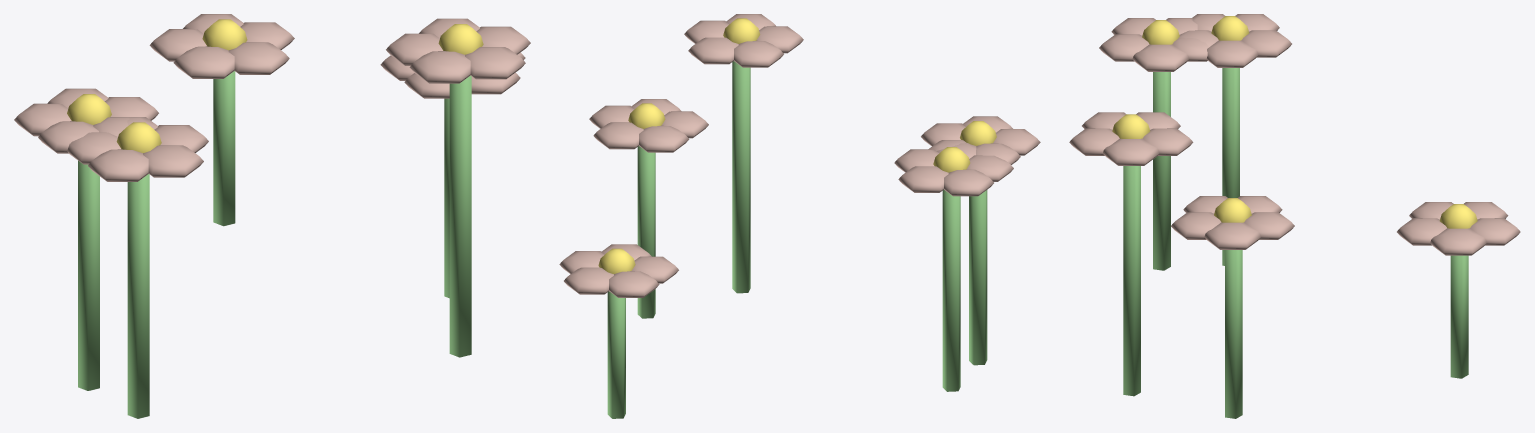
The model's file is env_prehistoric_flower.glb.
The picture shows the model from 3 angles, left to right: view 1: azimuth 30°, elevation 25°; view 2: azimuth 150°, elevation 25°; view 3: azimuth 270°, elevation 25°; orthographic projection. The views are drawn at different scales.
Parts seen in each view (by area): view 1: cone; view 2: cone; view 3: cone.
Boxes of the visible parts, left/top/right/bottom form: cone: left=14, top=14, right=530, bottom=418; cone: left=559, top=14, right=1040, bottom=418; cone: left=1069, top=14, right=1520, bottom=418.
Size of the model in its own units: 0.9623 by 0.6222 by 0.9199.
